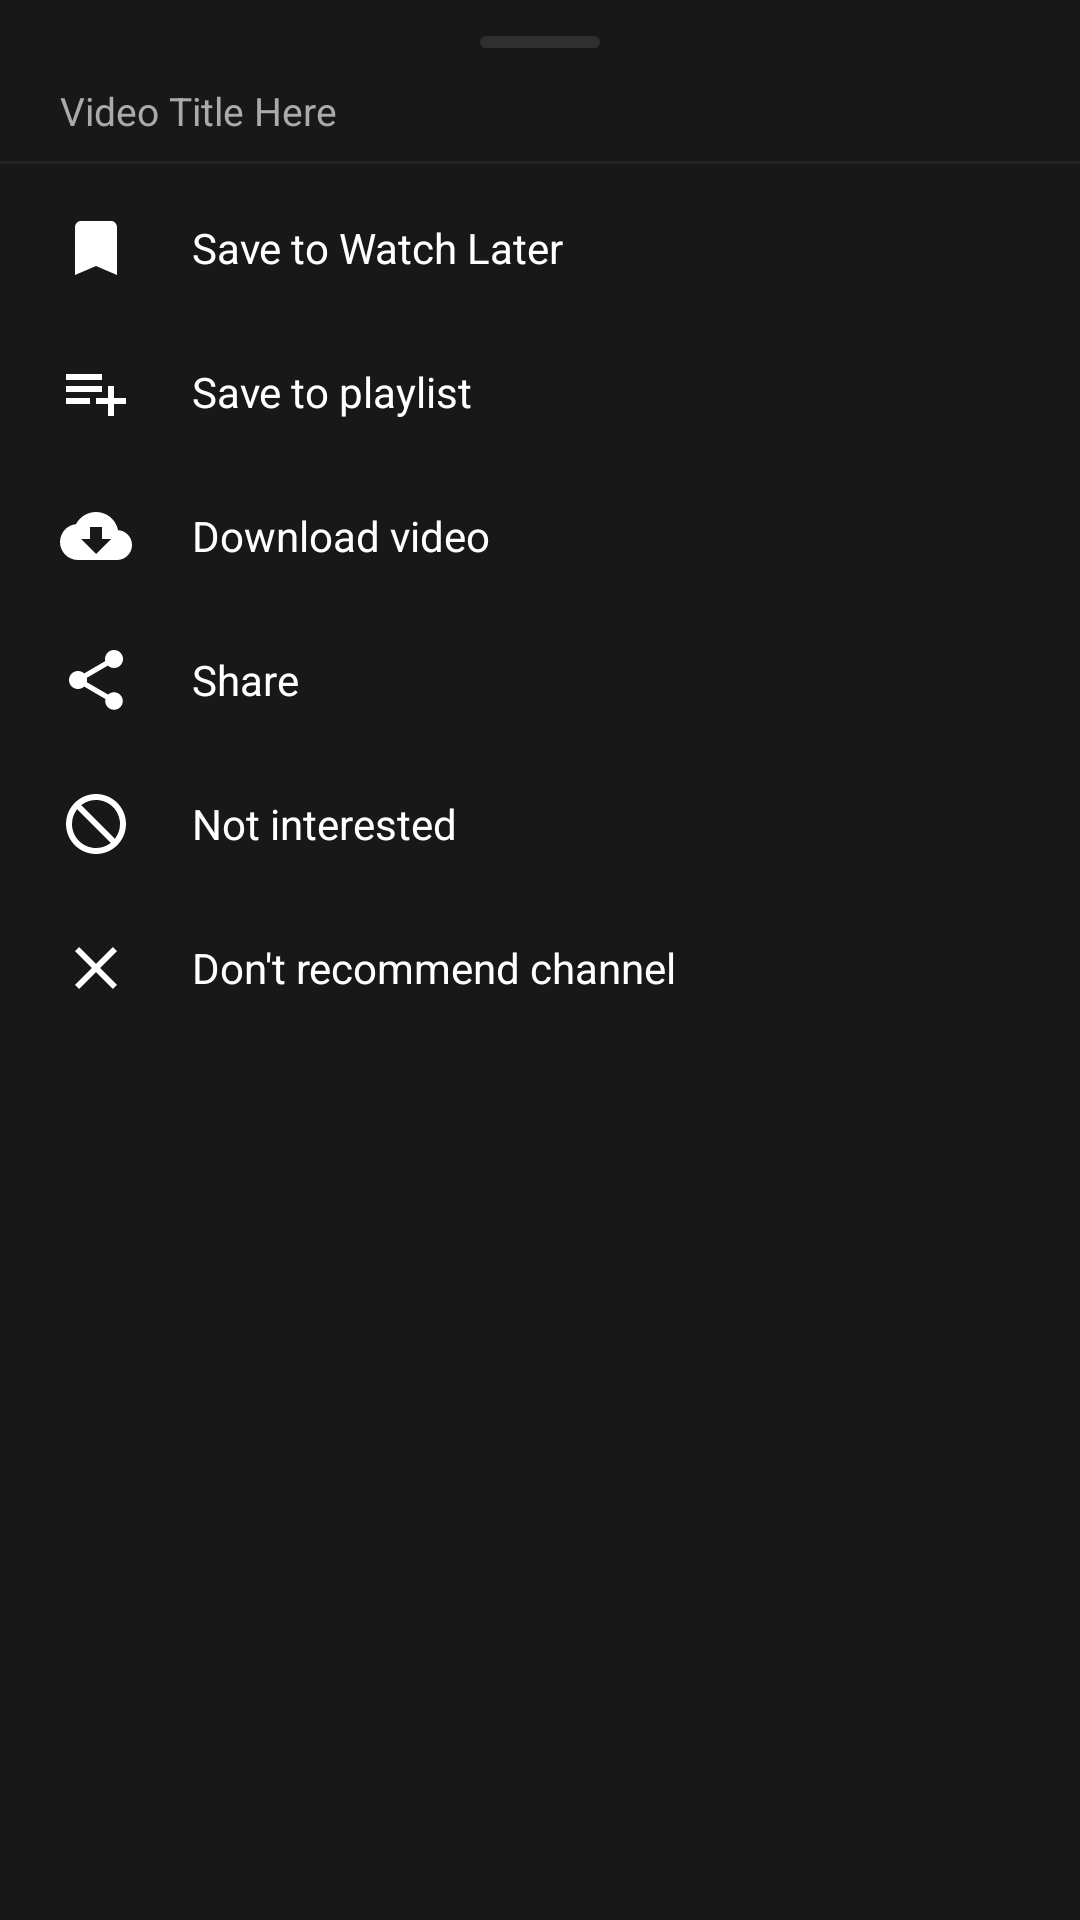

Screen size 1080w x 1920h. Icon name, then its box in pixels as bbox=(x1, y1, x2, y2):
bookmark: bbox=(75, 221, 117, 275)
close: bbox=(75, 947, 117, 989)
playlist add: bbox=(66, 374, 126, 416)
